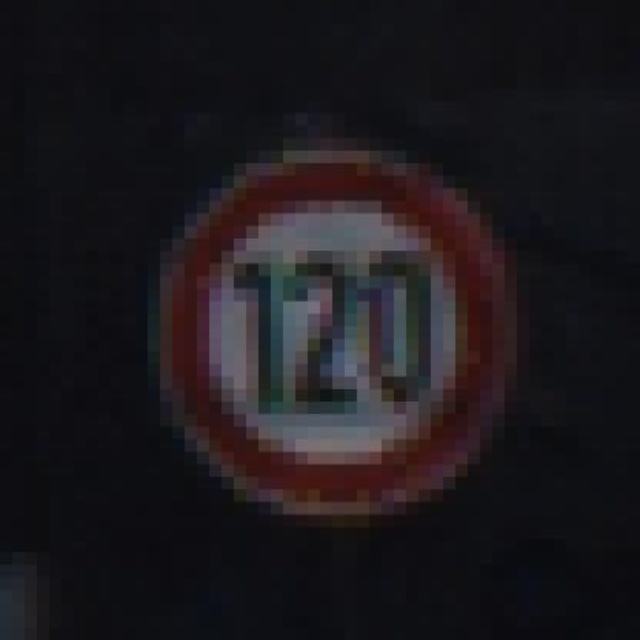Tốc độ tối đa cho phép 120km/h: (169, 156, 511, 512)
